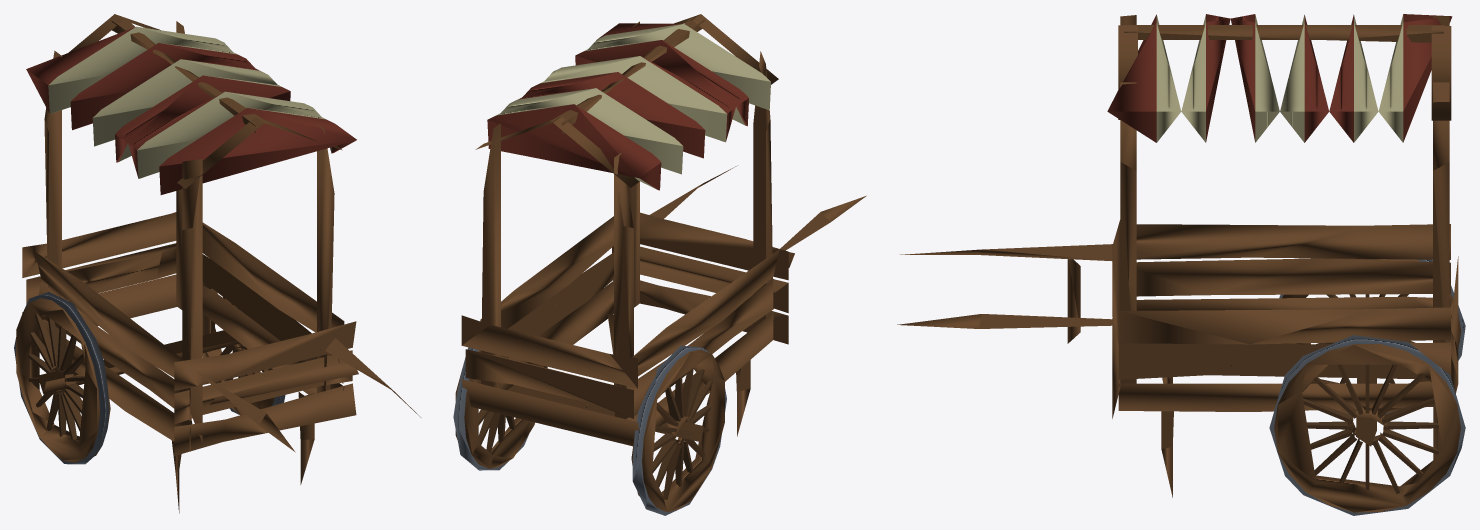
File: merchant_cart-small.glb
3 views of the same model, side by side, from view 1: azimuth 30°, elevation 25°; view 2: azimuth 150°, elevation 25°; view 3: azimuth 270°, elevation 25° (orthographic). The views are drawn at different scales.
Visible parts, largest first — view 1: Cart; view 2: Cart; view 3: Cart.
Part boxes in pixels (left/top/right/bottom): Cart: left=14, top=14, right=420, bottom=513; Cart: left=453, top=14, right=866, bottom=515; Cart: left=897, top=14, right=1465, bottom=515.
Size of the model in its own units: 0.462 by 0.7961 by 0.9274.
